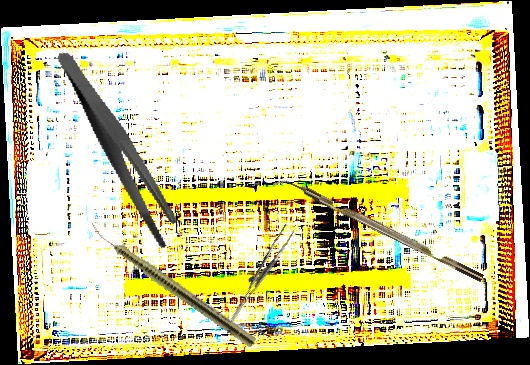Chopper: (271, 171, 484, 292)
Dressing Forceps: (55, 34, 184, 263)
Handpiece: (83, 219, 259, 350)
Tissue Forceps: (215, 223, 304, 323)
